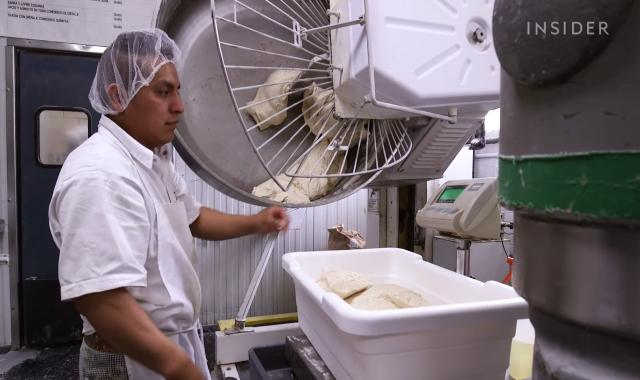hairnet: (87, 27, 181, 113)
